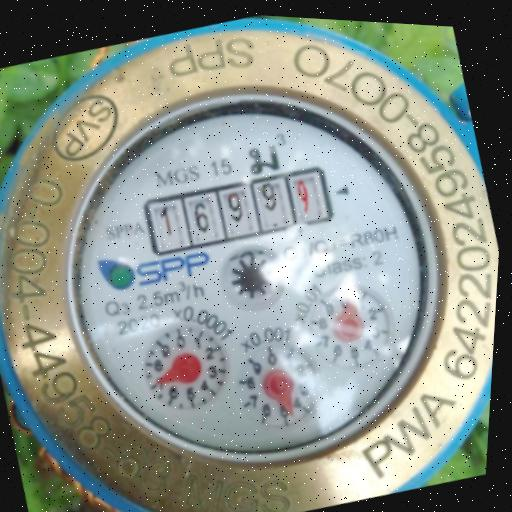1: (151, 204, 185, 250)
6: (185, 196, 218, 243)
9: (221, 190, 254, 238), (256, 183, 288, 229), (292, 176, 324, 221)
border_water_meter_number: (138, 153, 338, 268)
